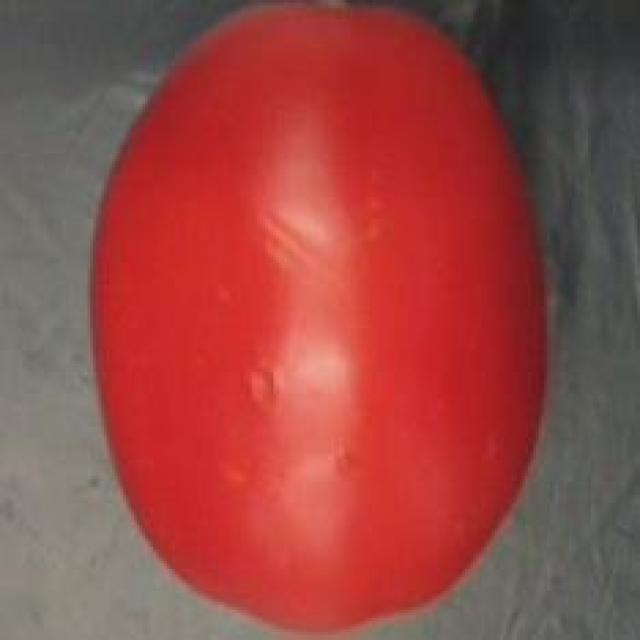ripe tomato: (74, 0, 555, 640)
